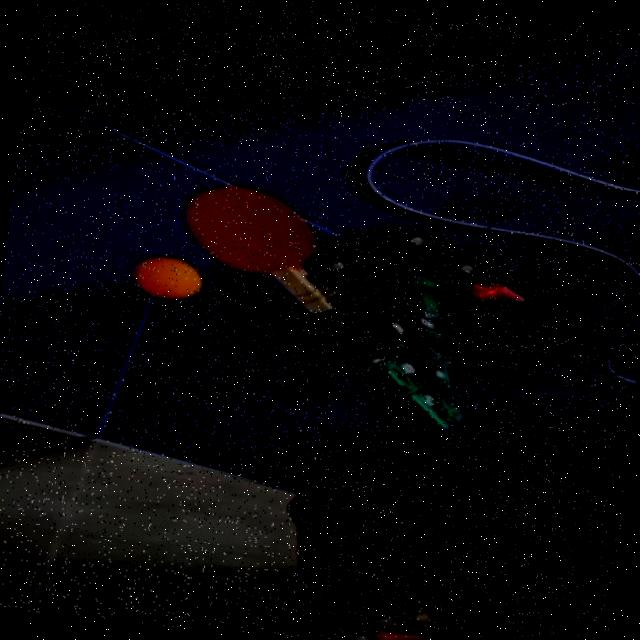ping-pong-ball: (136, 259, 210, 300)
